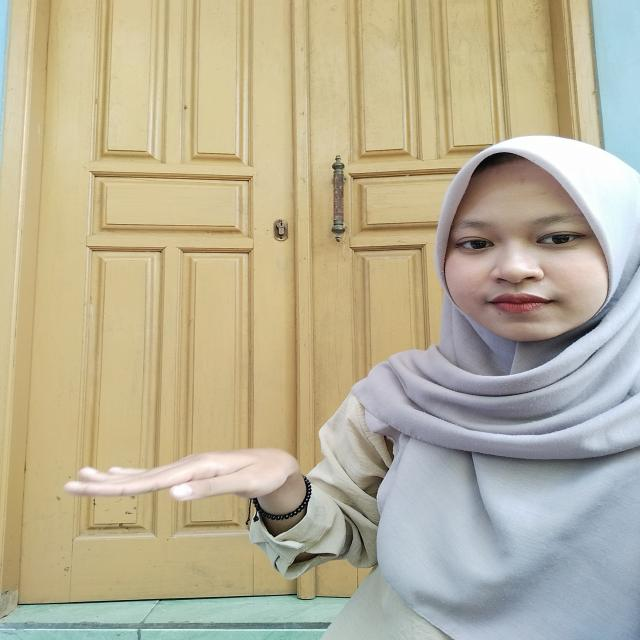adik: (59, 430, 332, 540)
